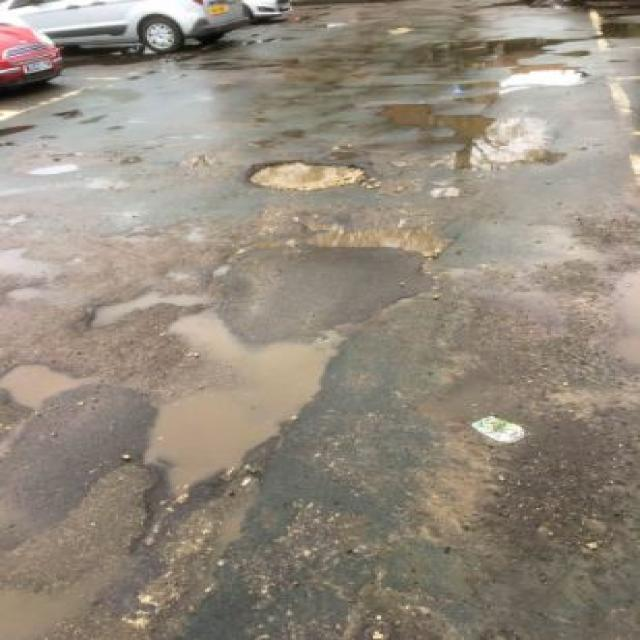pothole: (103, 308, 346, 552), (298, 216, 458, 261), (0, 354, 106, 412), (232, 149, 367, 191)
